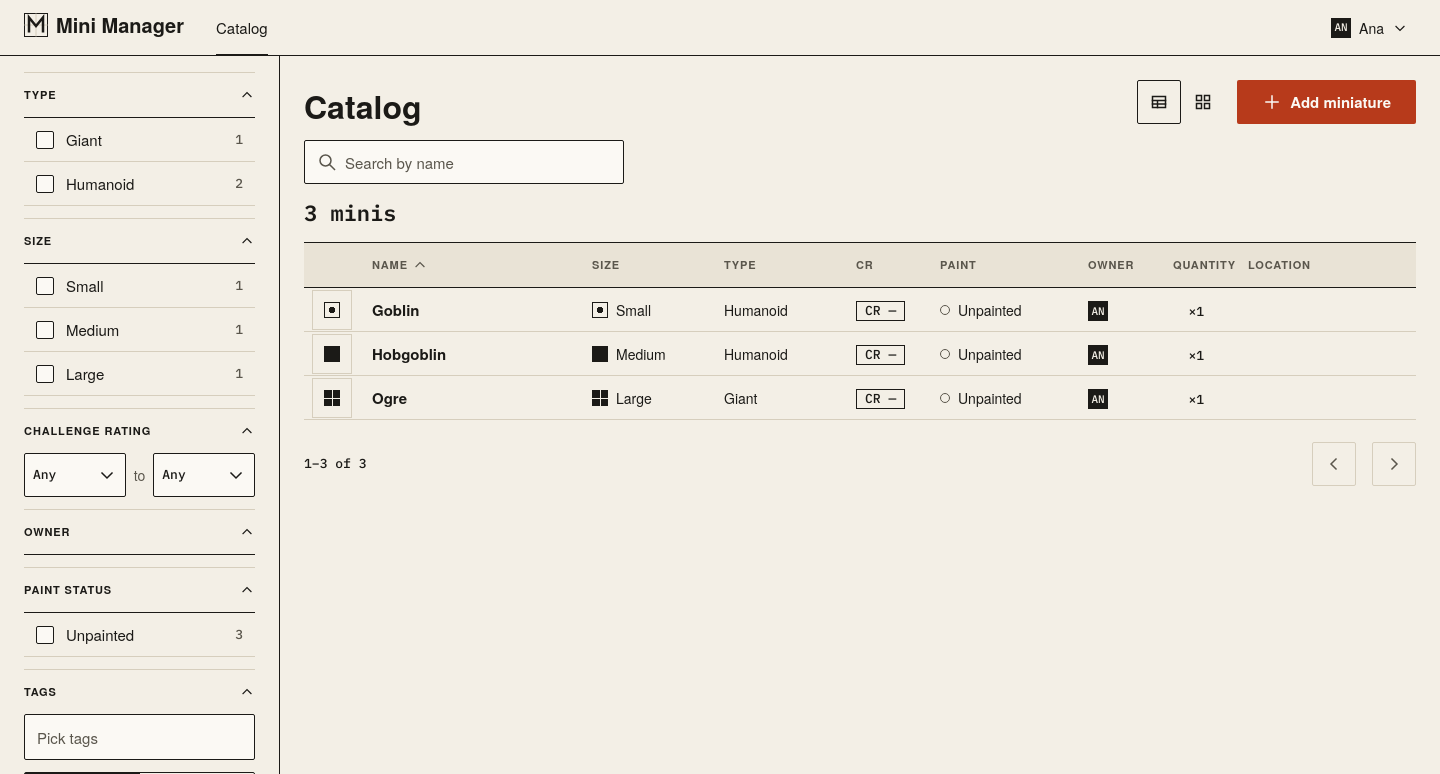
FilterControls › card 6 rule 2: ticking two sizes lists both, and shows how many of the Catalog match
Click the checkbox labelled "Small 1" at (45, 286), box [36,276,54,294]
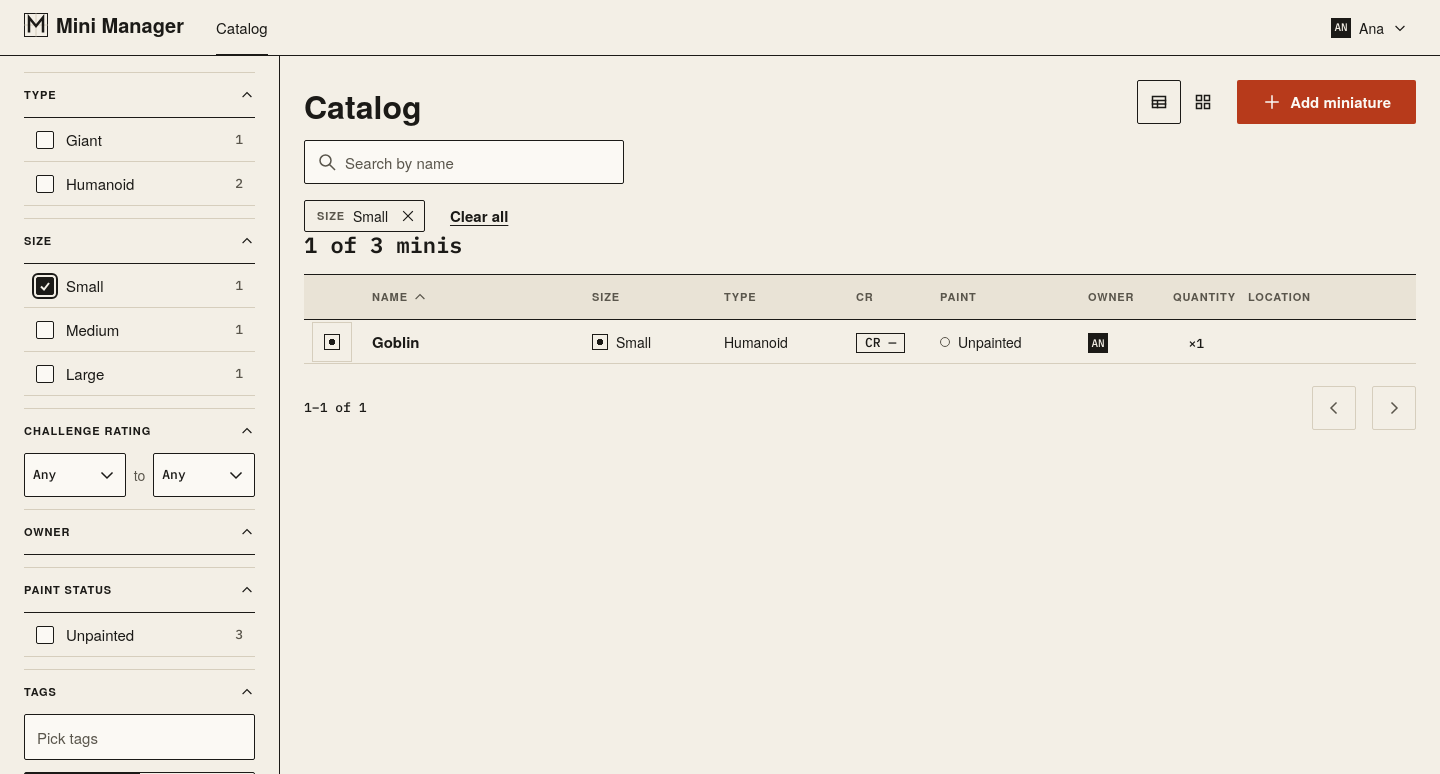
Click the checkbox labelled "Medium 1" at (45, 330), box [36,320,54,338]
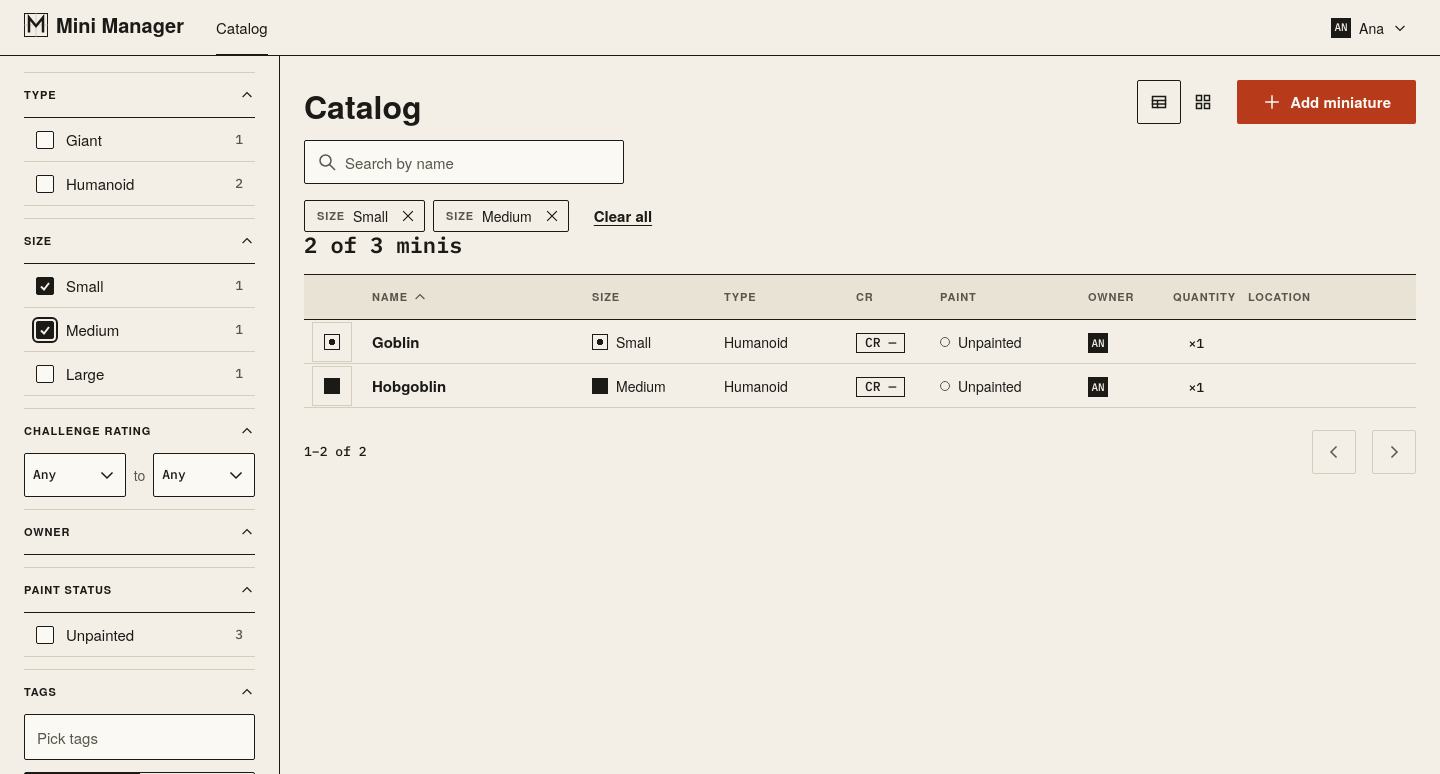
Expected: the text "2 of 3 minis" is shown, [304,230,462,259]
